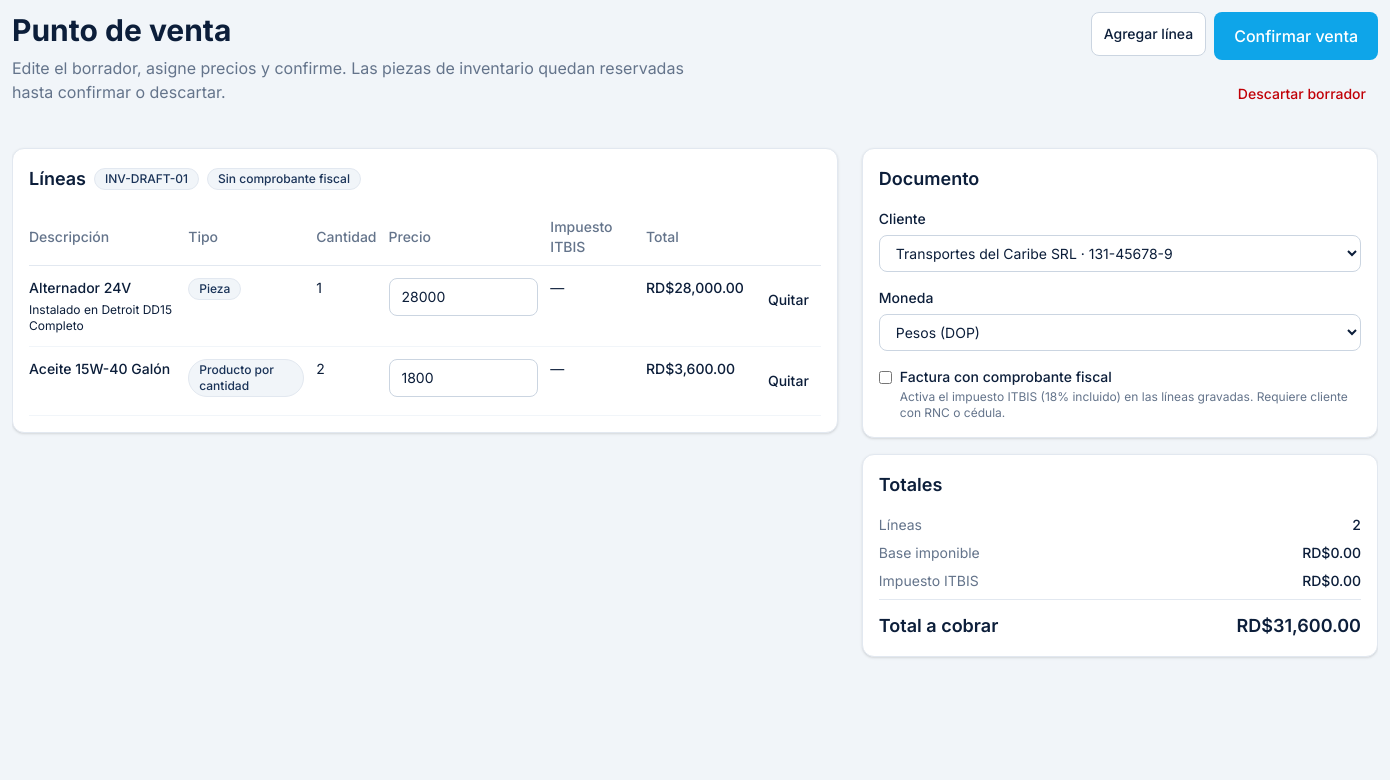
Scenario: PosPage › recalculates included ITBIS when fiscal mode is enabled
Expected: the text "Alternador 24V" is shown, [29,279,131,296]
Click the checkbox labelled "Factura con comprobante fiscal" at x=885, y=378, box [879,371,892,384]
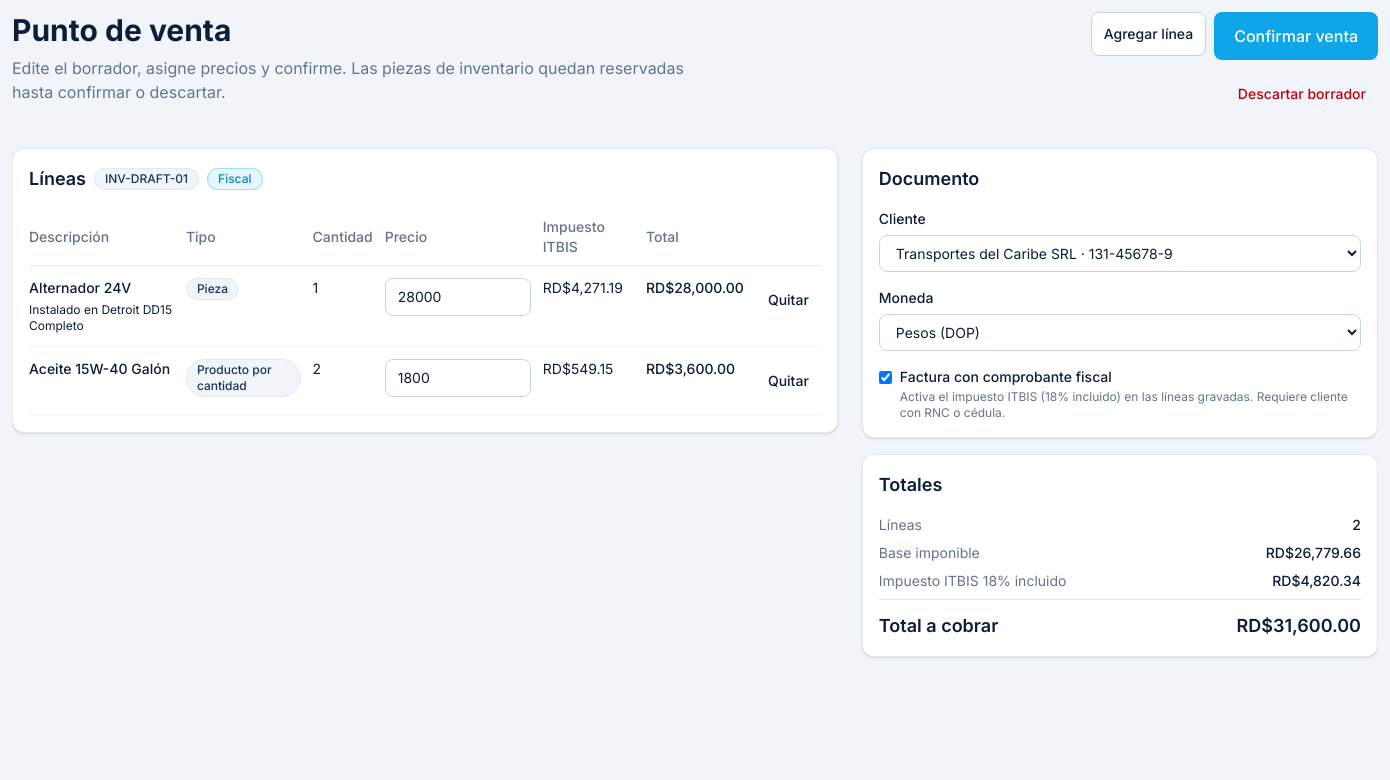
Result: the text with test id "pos-itbis" no longer shows "RD$0.00" at [1272,571,1361,591]
